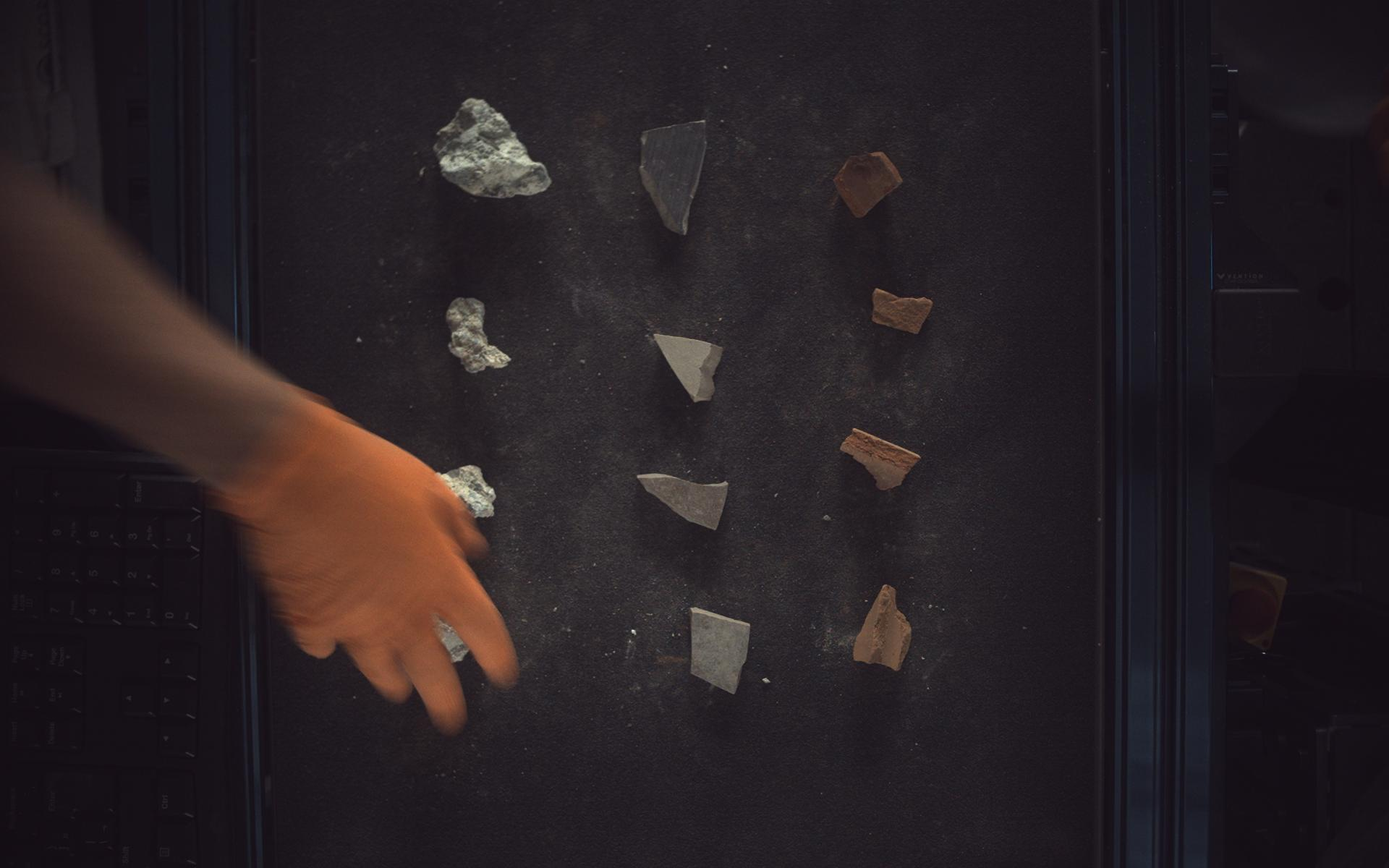brick: (854, 585, 913, 672), (842, 428, 922, 490), (836, 150, 904, 217), (875, 288, 935, 333)
concrete: (433, 97, 551, 197), (446, 297, 511, 373), (439, 465, 496, 518)
tile: (640, 119, 708, 234), (691, 608, 752, 694), (638, 475, 729, 530), (655, 333, 724, 402)
